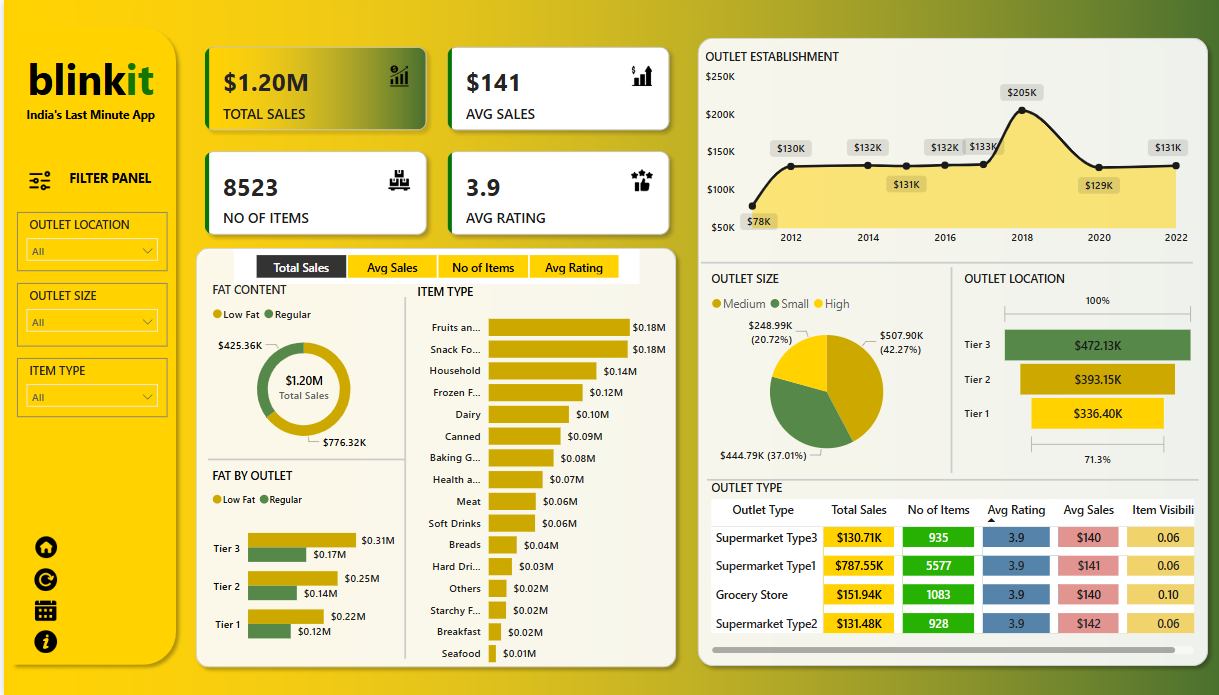

What the dashboard file says about the page in this screenshot:
{"tool":"powerbi","page":{"name":"BlinkIT Grocery Dashboard","canvas":[1400,800],"ordinal":0},"visuals":[{"type":"shape","box":[0,23.3,206.7,750],"z":0},{"type":"textbox","box":[10,51.7,178.3,75],"z":1000},{"type":"textbox","box":[10,116.7,178.3,35],"z":2000},{"type":"cardVisual","fields":{"Data":["BlinkIT Grocery Data.Total Sales","BlinkIT Grocery Data.Avg Sales","BlinkIT Grocery Data.No of Items","BlinkIT Grocery Data.Avg Rating"]},"box":[213.3,36.7,568.3,250],"z":3000},{"type":"shape","box":[212,276,570,500],"z":4000},{"type":"donutChart","title":"FAT CONTENT","fields":{"Y":["BlinkIT Grocery Data.Total Sales"],"Category":["BlinkIT Grocery Data.Item Fat Content"]},"box":[234.3,324.3,220,201.4],"z":5000},{"type":"cardVisual","fields":{"Data":["BlinkIT Grocery Data.Total Sales"]},"box":[297.1,411.4,94.3,57.1],"z":6000},{"type":"slicer","fields":{"Values":["Metrics.Metrics"]},"box":[264,286,466,40],"z":7000},{"type":"clusteredBarChart","title":"FAT BY OUTLET","fields":{"Y":["BlinkIT Grocery Data.Total Sales"],"Category":["BlinkIT Grocery Data.Outlet Location Type"],"Series":["BlinkIT Grocery Data.Item Fat Content"]},"box":[234,538,220,220],"z":8000},{"type":"shape","box":[234.3,520,227.1,17.1],"z":9000},{"type":"shape","box":[454.3,341.4,14.3,415.7],"z":10000},{"type":"barChart","title":"ITEM TYPE","fields":{"Y":["BlinkIT Grocery Data.Total Sales"],"Category":["BlinkIT Grocery Data.Item Type"]},"box":[470,326,296,450],"z":11000},{"type":"shape","box":[788.6,34.3,604.3,740],"z":12000},{"type":"lineChart","title":"OUTLET ESTABLISHMENT","fields":{"Category":["BlinkIT Grocery Data.Outlet Establishment Year"],"Y":["BlinkIT Grocery Data.Total Sales"]},"box":[801.7,56.7,565,235],"z":13000},{"type":"shape","box":[801.7,291.7,565,20],"z":14000},{"type":"pieChart","title":"OUTLET SIZE","fields":{"Y":["BlinkIT Grocery Data.Total Sales"],"Category":["BlinkIT Grocery Data.Outlet Size"]},"box":[808.3,311.7,275,231.7],"z":15000},{"type":"shape","box":[1081.7,306.7,15,236.7],"z":16000},{"type":"funnel","title":"OUTLET LOCATION","fields":{"Y":["BlinkIT Grocery Data.Total Sales"],"Category":["BlinkIT Grocery Data.Outlet Location Type"]},"box":[1098.3,311.7,275,231.7],"z":17000},{"type":"pivotTable","title":"OUTLET TYPE","fields":{"Rows":["BlinkIT Grocery Data.Outlet Type"],"Values":["BlinkIT Grocery Data.Total Sales","BlinkIT Grocery Data.No of Items","Avg(BlinkIT Grocery Data.Rating)","BlinkIT Grocery Data.Avg Sales","Avg(BlinkIT Grocery Data.Item Visibility)"]},"box":[808.3,551.7,565,205],"z":18000},{"type":"shape","box":[808.3,545,565,13.3],"z":19000},{"type":"slicer","fields":{"Values":["BlinkIT Grocery Data.Outlet Location Type"]},"box":[15,243.3,173.3,68.3],"z":19001},{"type":"slicer","fields":{"Values":["BlinkIT Grocery Data.Outlet Size"]},"box":[15,325,173.3,73.3],"z":19002},{"type":"slicer","fields":{"Values":["BlinkIT Grocery Data.Item Type"]},"box":[15,411.7,173.3,68.3],"z":19003},{"type":"textbox","box":[65.7,190,112.9,35.7],"z":19004},{"type":"image","box":[15.7,190,50,35.7],"z":19005},{"type":"image","box":[22.9,611.4,50,35],"z":19006},{"type":"image","box":[22.9,648.6,50,35.7],"z":19007},{"type":"image","box":[22.9,684.3,50,35.7],"z":19008},{"type":"image","box":[22.9,720,50,35.7],"z":19009}]}

Visuals, with their boxes in screenshot pixels (x1, y1, x2, y2), scaled from the page's 1400x800 canvas onto the 1219x695 screenshot:
shape: bbox=(0, 20, 180, 672)
textbox: bbox=(9, 45, 164, 110)
textbox: bbox=(9, 101, 164, 132)
cardVisual - BlinkIT Grocery Data.Total Sales x BlinkIT Grocery Data.Avg Sales: bbox=(186, 32, 681, 249)
shape: bbox=(185, 240, 681, 674)
"FAT CONTENT" donutChart: bbox=(204, 282, 396, 457)
cardVisual - BlinkIT Grocery Data.Total Sales: bbox=(259, 357, 341, 407)
slicer - Metrics.Metrics: bbox=(230, 248, 636, 283)
"FAT BY OUTLET" clusteredBarChart: bbox=(204, 467, 395, 659)
shape: bbox=(204, 452, 402, 467)
shape: bbox=(396, 297, 408, 658)
"ITEM TYPE" barChart: bbox=(409, 283, 667, 674)
shape: bbox=(687, 30, 1213, 673)
"OUTLET ESTABLISHMENT" lineChart: bbox=(698, 49, 1190, 253)
shape: bbox=(698, 253, 1190, 271)
"OUTLET SIZE" pieChart: bbox=(704, 271, 943, 472)
shape: bbox=(942, 266, 955, 472)
"OUTLET LOCATION" funnel: bbox=(956, 271, 1196, 472)
"OUTLET TYPE" pivotTable: bbox=(704, 479, 1196, 657)
shape: bbox=(704, 473, 1196, 485)
slicer - BlinkIT Grocery Data.Outlet Location Type: bbox=(13, 211, 164, 271)
slicer - BlinkIT Grocery Data.Outlet Size: bbox=(13, 282, 164, 346)
slicer - BlinkIT Grocery Data.Item Type: bbox=(13, 358, 164, 417)
textbox: bbox=(57, 165, 156, 196)
image: bbox=(14, 165, 57, 196)
image: bbox=(20, 531, 63, 562)
image: bbox=(20, 563, 63, 594)
image: bbox=(20, 594, 63, 626)
image: bbox=(20, 626, 63, 657)
